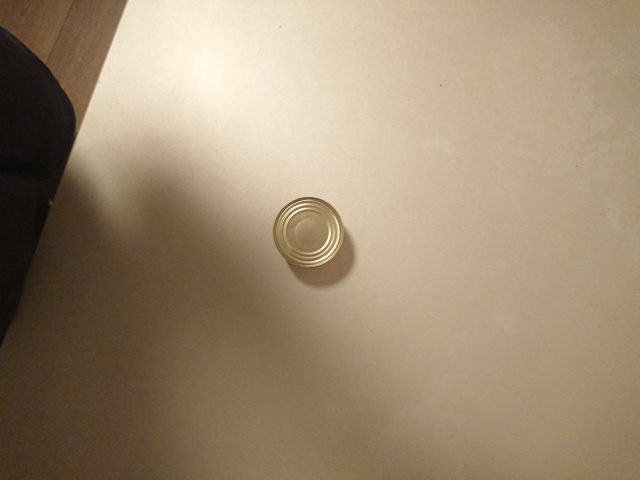Podravka Luncheon Meat 150g: (271, 195, 347, 271)
